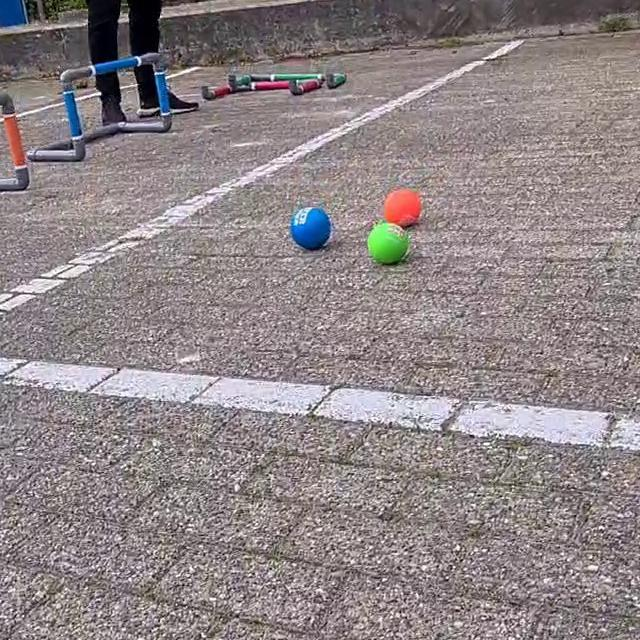ball: (364, 218, 412, 267), (288, 204, 334, 251), (379, 184, 426, 228)
